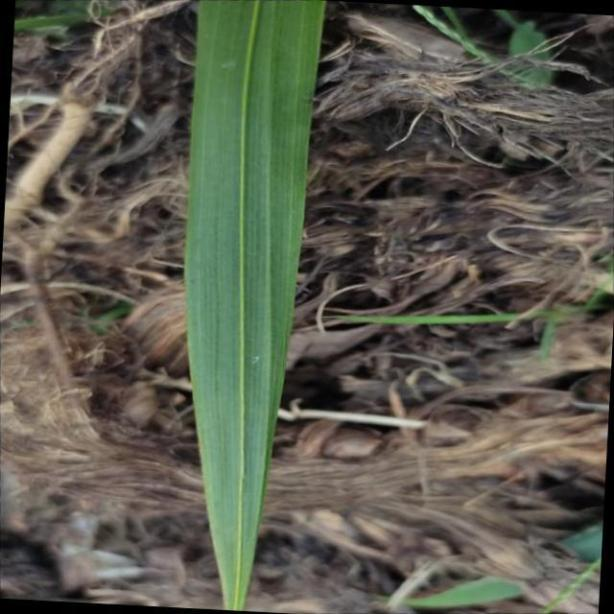Healthy: (187, 0, 328, 603)
